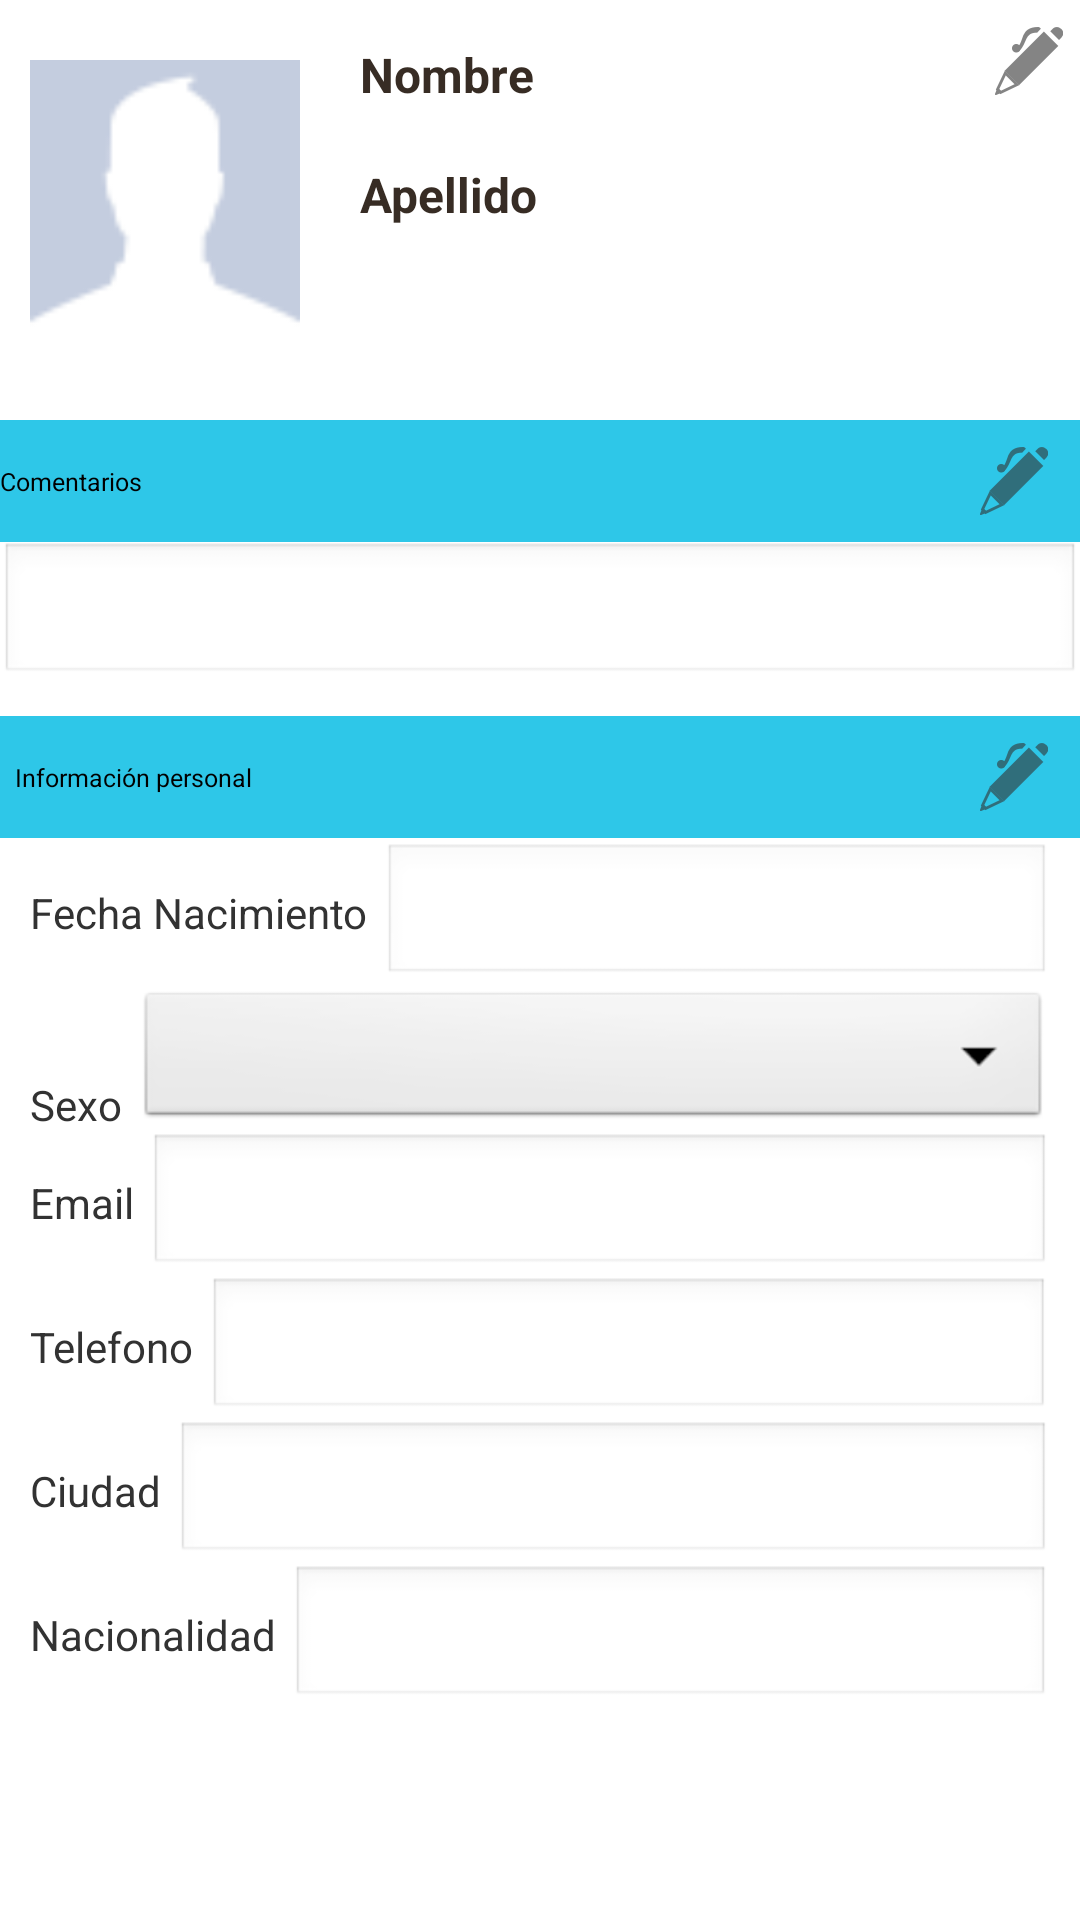

Icons on this 1080 × 1920 Android screen, each with its box as Rect(x1, y1, x2, y2):
editar: Rect(995, 27, 1063, 95), Rect(980, 447, 1048, 515), Rect(980, 743, 1048, 811)
